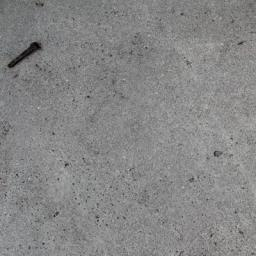FOD: (8, 39, 45, 71)
